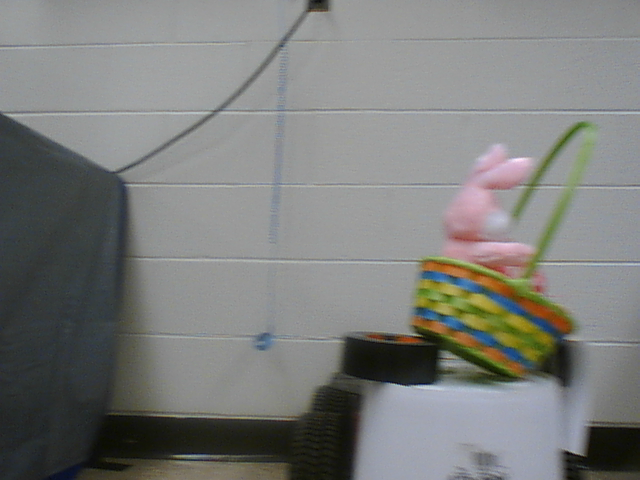bunny: (406, 120, 602, 386)
